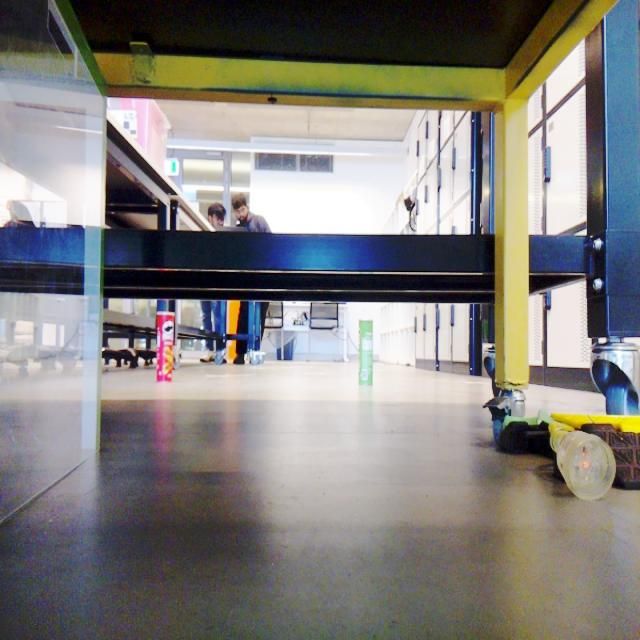greenpringles: (350, 312, 386, 394)
redpringles: (144, 302, 194, 393)
